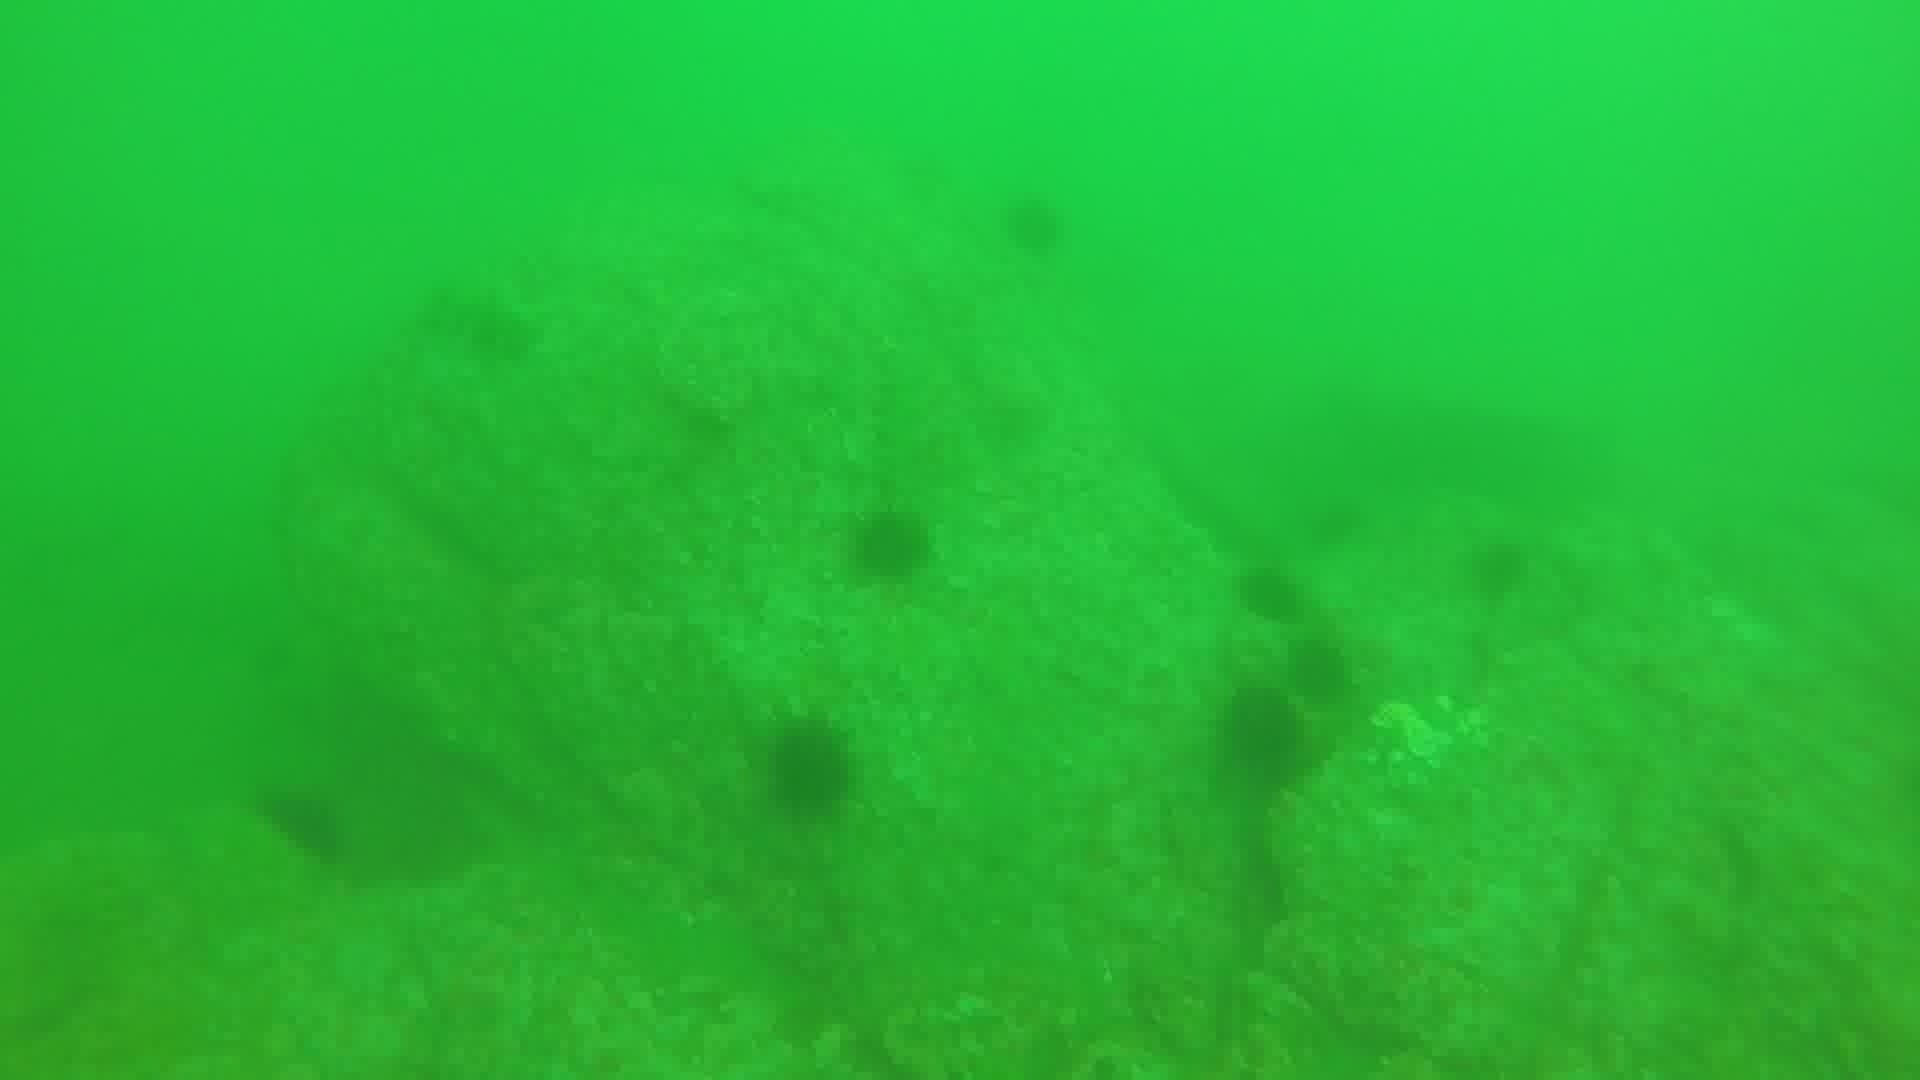echinus: (760, 713, 861, 822), (1215, 680, 1309, 781), (253, 779, 349, 866), (845, 502, 936, 585), (1282, 633, 1357, 708), (1461, 533, 1534, 604), (1232, 560, 1309, 626), (998, 190, 1069, 258), (1303, 491, 1370, 550)
holothurian: (409, 280, 545, 364)
